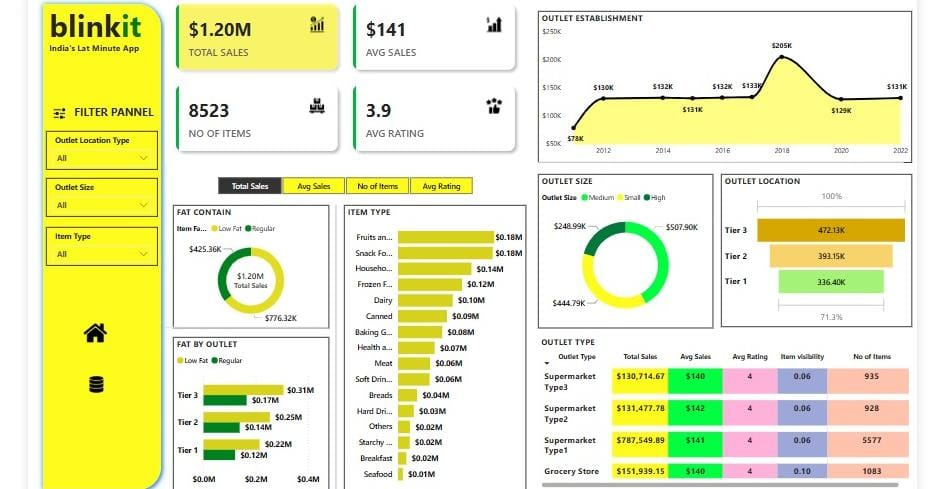

Layout of this report page (visuals, bound fields, positions):
{"tool":"powerbi","page":{"name":"Page 1","canvas":[1400,800],"ordinal":0},"visuals":[{"type":"shape","box":[14.2,7.9,204.7,784.3],"z":0},{"type":"textbox","box":[28.3,72.4,165.4,28.3],"z":1000},{"type":"textbox","box":[28.3,12.6,165.4,74],"z":2000},{"type":"cardVisual","fields":{"Data":["BlinkIT Grocery Data.Total Sales","BlinkIT Grocery Data.Avg Sales","BlinkIT Grocery Data.No of Items","BlinkIT Grocery Data.Avg Rating"]},"box":[215.1,0,569,267.9],"z":3000},{"type":"donutChart","title":"FAT CONTAIN","fields":{"Y":["BlinkIT Grocery Data.Total Sales"],"Category":["BlinkIT Grocery Data.Item Fat Content"]},"box":[228.3,333.9,245.7,193.7],"z":4000},{"type":"slicer","fields":{"Values":["MERTICS.MERTICS"]},"box":[274,283.5,450.4,40],"z":5000},{"type":"cardVisual","fields":{"Data":["BlinkIT Grocery Data.Total Sales"]},"box":[299.2,418.9,103.9,63],"z":6000},{"type":"clusteredBarChart","title":"FAT BY OUTLET","fields":{"Y":["BlinkIT Grocery Data.Total Sales"],"Category":["BlinkIT Grocery Data.Outlet Location Type"],"Series":["BlinkIT Grocery Data.Item Fat Content"]},"box":[228.3,541.7,245.7,242.5],"z":7000},{"type":"shape","box":[215.7,511.8,245.7,29.9],"z":8000},{"type":"shape","box":[472.4,333.9,25.2,450.4],"z":9000},{"type":"barChart","title":"ITEM TYPE","fields":{"Y":["BlinkIT Grocery Data.Total Sales"],"Category":["BlinkIT Grocery Data.Item Type"]},"box":[497.6,333.9,286.6,450.4],"z":10000},{"type":"lineChart","title":"OUTLET ESTABLISHMENT","fields":{"Y":["BlinkIT Grocery Data.Total Sales"],"Category":["BlinkIT Grocery Data.Outlet Establishment Year"]},"box":[803.1,28.3,589,239.4],"z":11000},{"type":"shape","box":[228.3,511.8,244.1,29.9],"z":12000},{"type":"shape","box":[803.1,248.8,576.4,36.2],"z":13000},{"type":"donutChart","title":"OUTLET SIZE","fields":{"Y":["BlinkIT Grocery Data.Total Sales"],"Category":["BlinkIT Grocery Data.Outlet Size"]},"box":[803.1,285,275.6,242.5],"z":14000},{"type":"funnel","title":"OUTLET LOCATION","fields":{"Y":["Sum(BlinkIT Grocery Data.Sales)"],"Category":["BlinkIT Grocery Data.Outlet Location Type"]},"box":[1091.3,285,300.8,240.9],"z":15000},{"type":"pivotTable","title":"OUTLET TYPE","fields":{"Values":["BlinkIT Grocery Data.Total Sales","BlinkIT Grocery Data.Avg Sales","BlinkIT Grocery Data.Avg Rating","Avg(BlinkIT Grocery Data.Item Visibility)","BlinkIT Grocery Data.No of Items"],"Rows":["BlinkIT Grocery Data.Outlet Type"]},"box":[803.1,540.2,589,244.1],"z":16000},{"type":"slicer","fields":{"Values":["BlinkIT Grocery Data.Outlet Location Type"]},"box":[28.3,217.3,176.4,61.4],"z":17000},{"type":"slicer","fields":{"Values":["BlinkIT Grocery Data.Outlet Size"]},"box":[28.3,291.3,176.4,61.4],"z":18000},{"type":"slicer","fields":{"Values":["BlinkIT Grocery Data.Item Type"]},"box":[28.3,368.5,176.4,61.4],"z":19000},{"type":"textbox","title":"FILTER PANNEL","box":[67.7,174.8,137,29.9],"z":20000},{"type":"image","box":[28.3,174.8,42.5,29.9],"z":20001},{"type":"image","box":[75.6,511.8,61.4,47.2],"z":20002},{"type":"image","box":[78.7,598.4,58.3,36.2],"z":20003}]}

Visuals, with their boxes in screenshot pixels (x1, y1, x2, y2):
shape: 41,0,169,488
textbox: 50,40,153,58
textbox: 50,3,153,49
cardVisual - BlinkIT Grocery Data.Total Sales x BlinkIT Grocery Data.Avg Sales: 167,0,523,163
"FAT CONTAIN" donutChart: 175,204,329,326
slicer - MERTICS.MERTICS: 203,173,486,198
cardVisual - BlinkIT Grocery Data.Total Sales: 219,257,284,297
"FAT BY OUTLET" clusteredBarChart: 175,334,329,486
shape: 167,316,321,334
shape: 328,204,344,486
"ITEM TYPE" barChart: 344,204,523,486
"OUTLET ESTABLISHMENT" lineChart: 535,13,904,163
shape: 175,316,328,334
shape: 535,151,896,174
"OUTLET SIZE" donutChart: 535,174,708,326
"OUTLET LOCATION" funnel: 715,174,904,325
"OUTLET TYPE" pivotTable: 535,333,904,486
slicer - BlinkIT Grocery Data.Outlet Location Type: 50,131,160,170
slicer - BlinkIT Grocery Data.Outlet Size: 50,178,160,216
slicer - BlinkIT Grocery Data.Item Type: 50,226,160,264
"FILTER PANNEL" textbox: 74,105,160,123
image: 50,105,76,123
image: 79,316,118,345
image: 81,370,118,393
